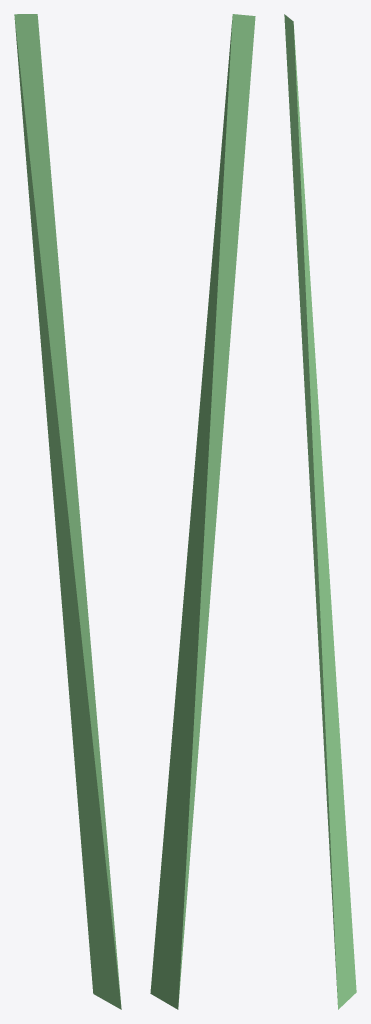
File: linkhou_LR4_R560_link5_respondable_coll_14.dae
3 views of the same model, side by side, from view 1: azimuth 30°, elevation 25°; view 2: azimuth 210°, elevation 25°; view 3: azimuth 330°, elevation 25° (orthographic). The views are drawn at different scales.
Visible parts, largest first — view 1: Node_00000209DB3AB530; view 2: Node_00000209DB3AB530; view 3: Node_00000209DB3AB530.
Boxes of the visible parts, <box> form: Node_00000209DB3AB530: <box>14,14,121,1009</box>; Node_00000209DB3AB530: <box>150,14,255,1009</box>; Node_00000209DB3AB530: <box>284,14,356,1009</box>.
Bounding box in the file's own units: 0.0023 × 0.0269 × 0.00125.
